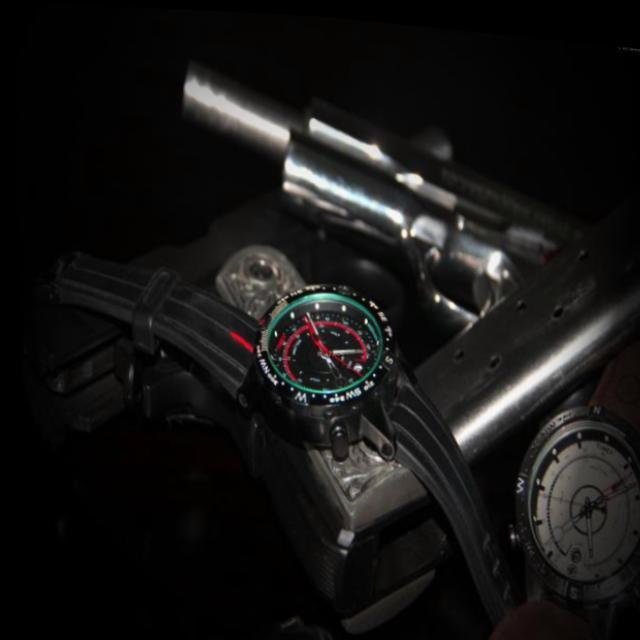weapon: (170, 49, 592, 334)
